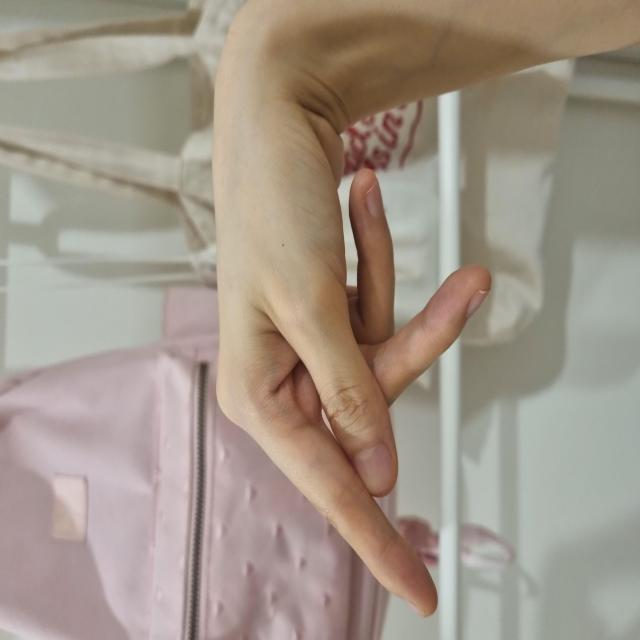P: (70, 101, 575, 633)
